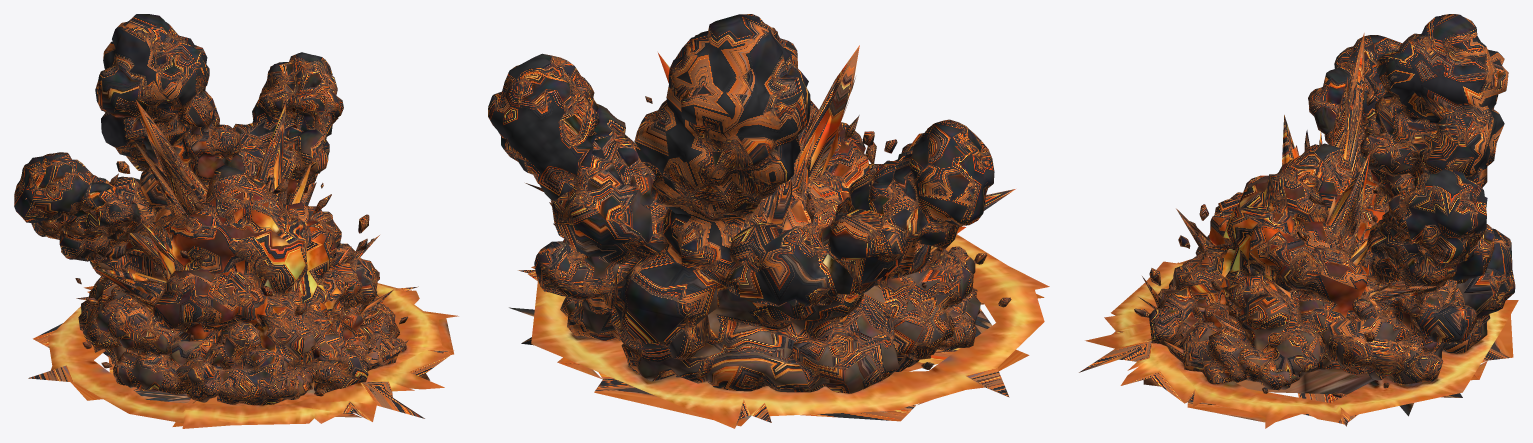
File: bushes.glb
3 renders of one model, left to right at view 1: azimuth 30°, elevation 25°; view 2: azimuth 150°, elevation 25°; view 3: azimuth 270°, elevation 25°, orthographic. The views are drawn at different scales.
Size of the model in its own units: 0.9575 by 0.6943 by 0.9097.
1 material, 1 textured.
